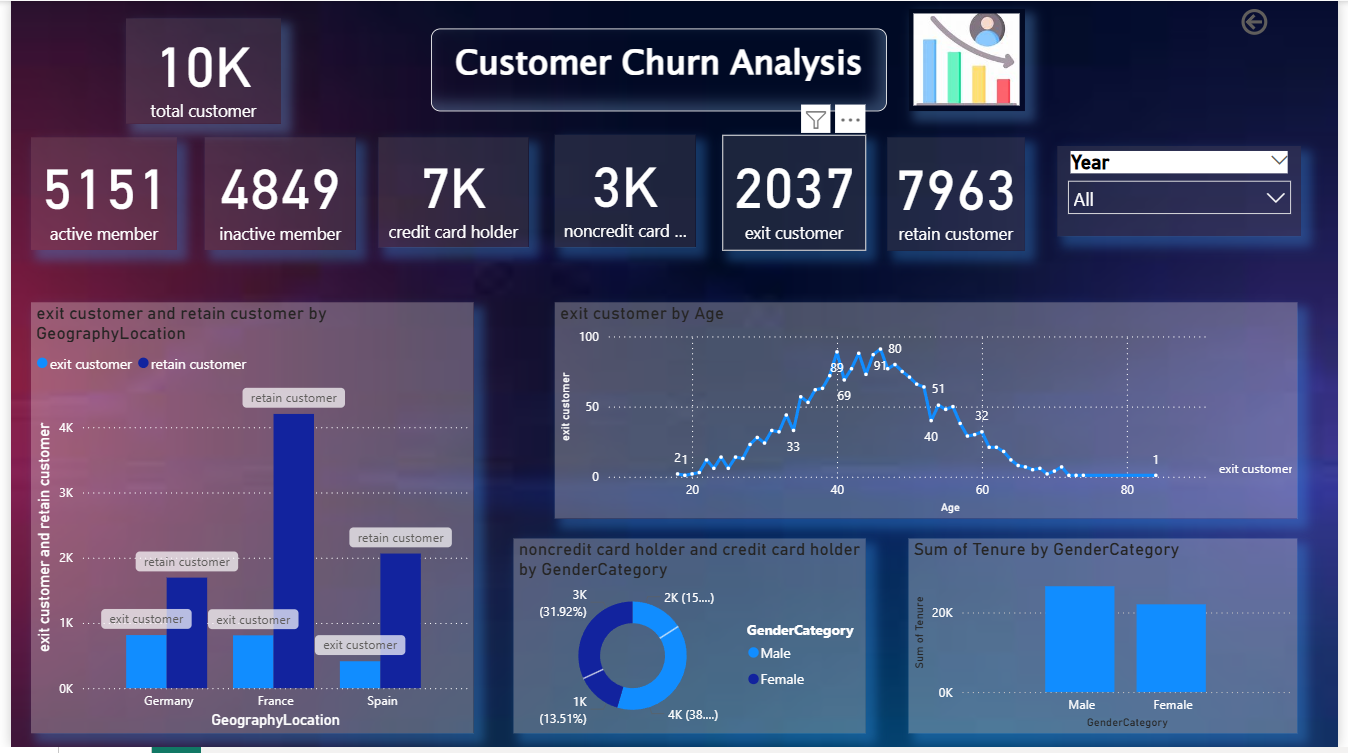

The page's visual inventory and layout, read from the dashboard file:
{"tool":"powerbi","page":{"name":"page2","canvas":[1280,720],"ordinal":1},"visuals":[{"type":"textbox","box":[405.4,26.5,440.4,79.6],"z":0},{"type":"card","fields":{"Values":["active member.active member"]},"box":[19.3,131.5,141.2,108.6],"z":1000},{"type":"card","fields":{"Values":["active member.inactive member"]},"box":[187,131.5,146,108.6],"z":2000},{"type":"card","fields":{"Values":["active member.noncredit card holder"]},"box":[524.8,129.1,136.3,108.6],"z":3000},{"type":"card","fields":{"Values":["active member.credit card holder"]},"box":[354.7,131.5,144.8,106.2],"z":4000},{"type":"card","fields":{"Values":["active member.retain category"]},"box":[845.7,131.5,132.7,109.8],"z":5000},{"type":"card","fields":{"Values":["active member.exit category"]},"box":[686.5,129.1,138.7,112.2],"z":6000},{"type":"card","fields":{"Values":["active member.total customer"]},"box":[111,16.9,149.6,101.3],"z":7000},{"type":"lineClusteredColumnComboChart","fields":{"Category":["country.GeographyLocation"],"Y":["active member.exit customer","active member.retain customer"]},"box":[19.3,290.8,427.1,416.2],"z":8000},{"type":"lineChart","fields":{"Category":["Bank_Churn.Age"],"Y":["active member.exit customer"]},"box":[524.8,290.8,716.6,208.7],"z":9000},{"type":"donutChart","fields":{"Y":["active member.noncredit card holder","active member.credit card holder"],"Category":["gender.GenderCategory"]},"box":[485,518.8,340.2,188.2],"z":10000},{"type":"clusteredColumnChart","fields":{"Category":["gender.GenderCategory"],"Y":["Sum(Bank_Churn.Tenure)"]},"box":[866.2,518.8,375.2,188.2],"z":11000},{"type":"slicer","fields":{"Values":["Bank_Churn.Bank DOJ.Variation.Date Hierarchy.Year"]},"box":[1009.8,139.9,235.3,86.9],"z":12000},{"type":"image","box":[866.2,7.2,112.2,98.9],"z":13000},{"type":"actionButton","box":[1179.9,0,100.1,39.8],"z":14000}]}

Visuals, with their boxes in screenshot pixels (x1, y1, x2, y2), scaled from the page's 1280x720 canvas onto the 1348x753 screenshot:
textbox: x1=427 y1=28 x2=891 y2=111
card - active member.active member: x1=20 y1=138 x2=169 y2=251
card - active member.inactive member: x1=197 y1=138 x2=351 y2=251
card - active member.noncredit card holder: x1=553 y1=135 x2=696 y2=249
card - active member.credit card holder: x1=374 y1=138 x2=526 y2=249
card - active member.retain category: x1=891 y1=138 x2=1030 y2=252
card - active member.exit category: x1=723 y1=135 x2=869 y2=252
card - active member.total customer: x1=117 y1=18 x2=274 y2=124
lineClusteredColumnComboChart - country.GeographyLocation x active member.exit customer: x1=20 y1=304 x2=470 y2=739
lineChart - Bank_Churn.Age x active member.exit customer: x1=553 y1=304 x2=1307 y2=522
donutChart - active member.noncredit card holder x active member.credit card holder: x1=511 y1=543 x2=869 y2=739
clusteredColumnChart - gender.GenderCategory x Sum(Bank_Churn.Tenure): x1=912 y1=543 x2=1307 y2=739
slicer - Bank_Churn.Bank DOJ.Variation.Date Hierarchy.Year: x1=1063 y1=146 x2=1311 y2=237
image: x1=912 y1=8 x2=1030 y2=111
actionButton: x1=1243 y1=0 x2=1347 y2=42
